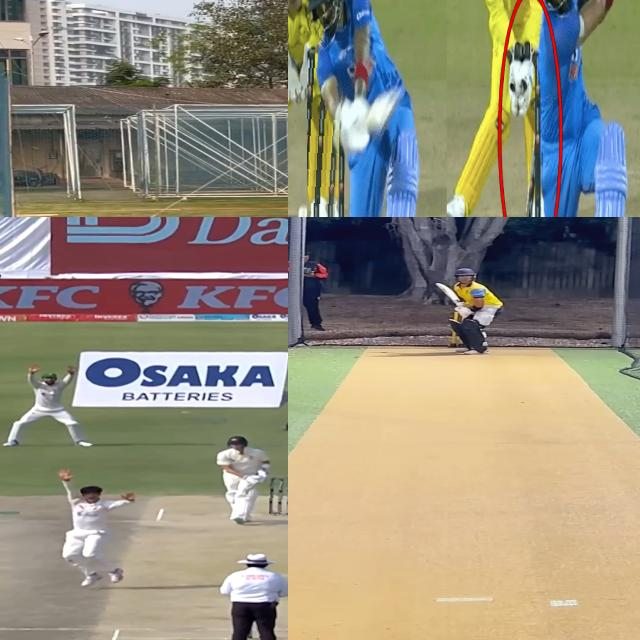Stumps: (307, 42, 345, 217), (525, 49, 544, 217), (269, 477, 288, 515)
